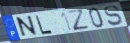0: (88, 7, 105, 29)
1: (61, 12, 73, 31)
L: (35, 14, 54, 35)
N: (16, 15, 39, 40)
S: (103, 4, 124, 27)
Z: (66, 8, 92, 32)
